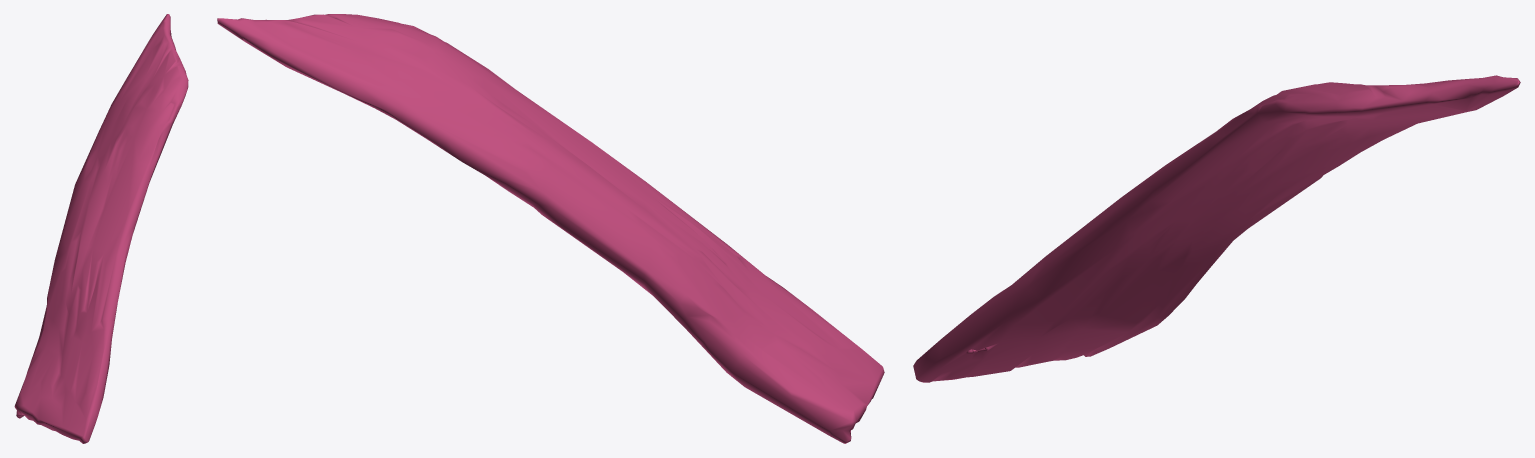
3 renders of one model, left to right at view 1: azimuth 30°, elevation 25°; view 2: azimuth 150°, elevation 25°; view 3: azimuth 270°, elevation 25°, orthographic. The views are drawn at different scales.
Parts seen in each view (by area): view 1: 右侧大圆肌; view 2: 右侧大圆肌; view 3: 右侧大圆肌.
Part boxes in pixels (bbox=[...]): 右侧大圆肌: bbox=[14, 14, 188, 443]; 右侧大圆肌: bbox=[217, 14, 884, 443]; 右侧大圆肌: bbox=[913, 75, 1520, 382].
Size of the model in its own units: 0.1262 by 0.1219 by 0.1268.
